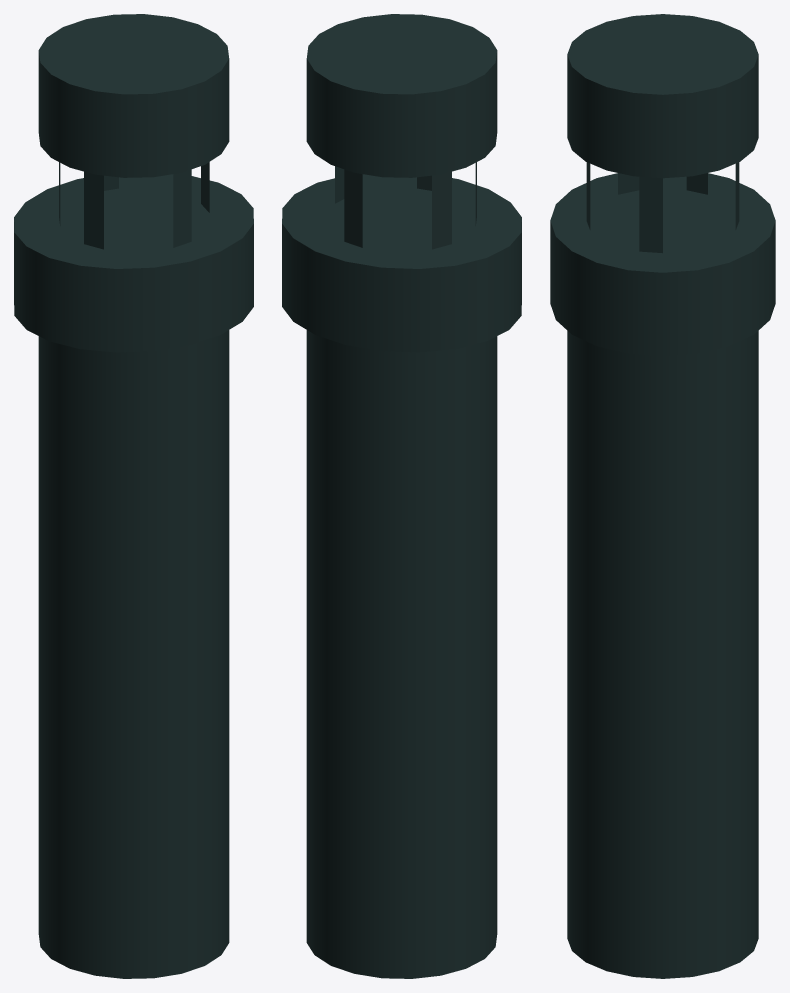
File: farola.fbx
The picture shows the model from 3 angles, left to right: view 1: azimuth 30°, elevation 25°; view 2: azimuth 150°, elevation 25°; view 3: azimuth 270°, elevation 25°; orthographic projection.
Parts seen in each view (by area): view 1: pCylinder1, pasted__pasted__pCylinder1, pasted__pCylinder1, pasted__pasted__pCylinder1_1; view 2: pCylinder1, pasted__pasted__pCylinder1, pasted__pCylinder1, pasted__pasted__pCylinder1_1; view 3: pCylinder1, pasted__pasted__pCylinder1, pasted__pCylinder1, pasted__pasted__pCylinder1_1.
Boxes of the visible parts, box(x1,y1,x2,y2) form: pCylinder1: box(38, 330, 229, 978); pasted__pasted__pCylinder1: box(14, 174, 253, 352); pasted__pCylinder1: box(38, 14, 229, 177); pasted__pasted__pCylinder1_1: box(59, 162, 209, 249); pCylinder1: box(306, 330, 497, 978); pasted__pasted__pCylinder1: box(282, 174, 521, 352); pasted__pCylinder1: box(306, 14, 497, 177); pasted__pasted__pCylinder1_1: box(335, 162, 476, 249); pCylinder1: box(567, 331, 758, 978); pasted__pasted__pCylinder1: box(550, 173, 775, 356); pasted__pCylinder1: box(567, 14, 758, 178); pasted__pasted__pCylinder1_1: box(586, 162, 739, 253).
Size of the model in its own units: 259 by 1019 by 235.
1 material, 1 textured.
